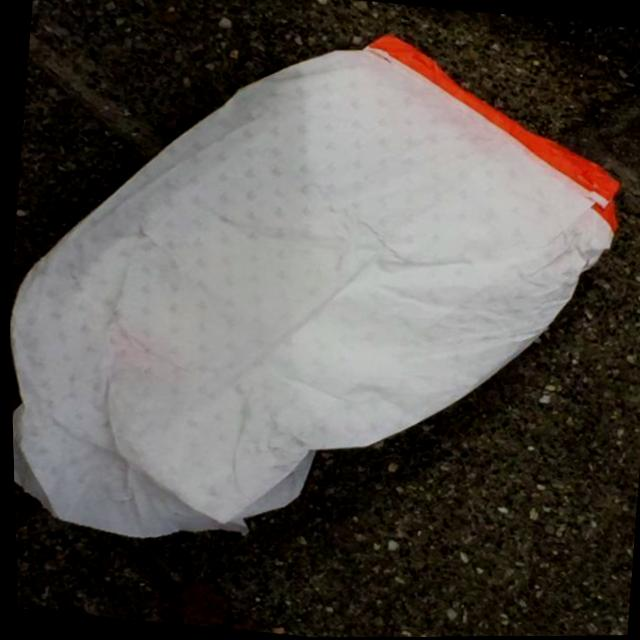Paper: (0, 0, 640, 591)
